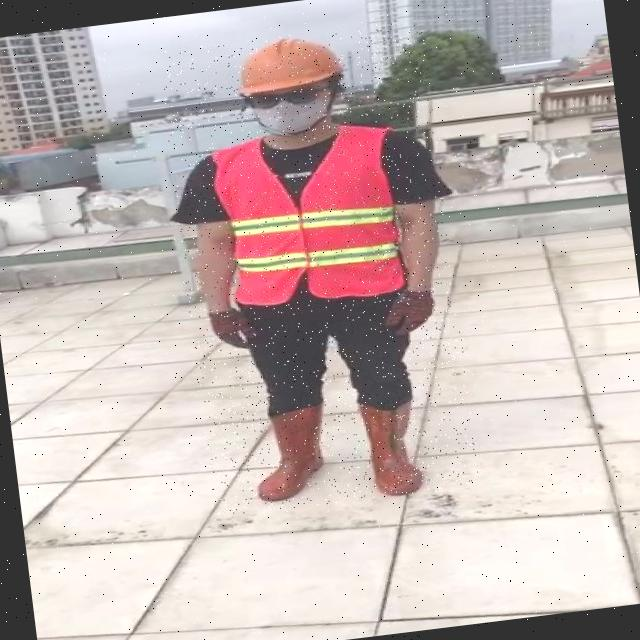boots: (248, 405, 338, 502), (357, 394, 432, 498)
helmet: (230, 32, 340, 98)
vest: (210, 122, 410, 314)
